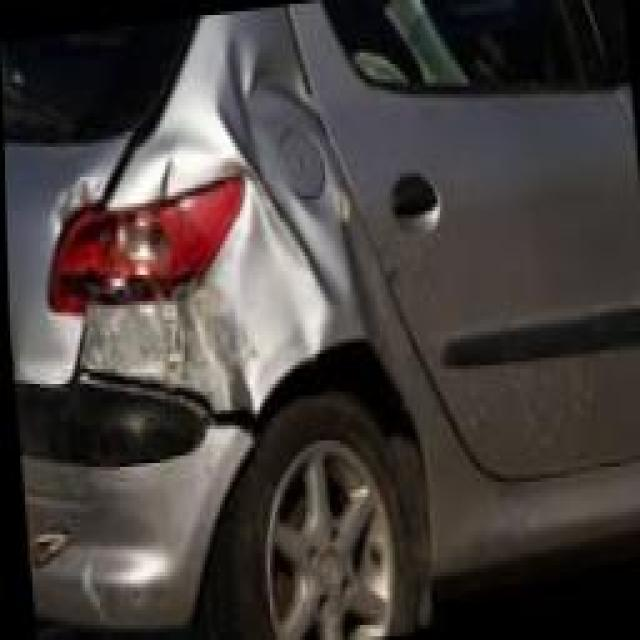Fender: (73, 21, 384, 426)
